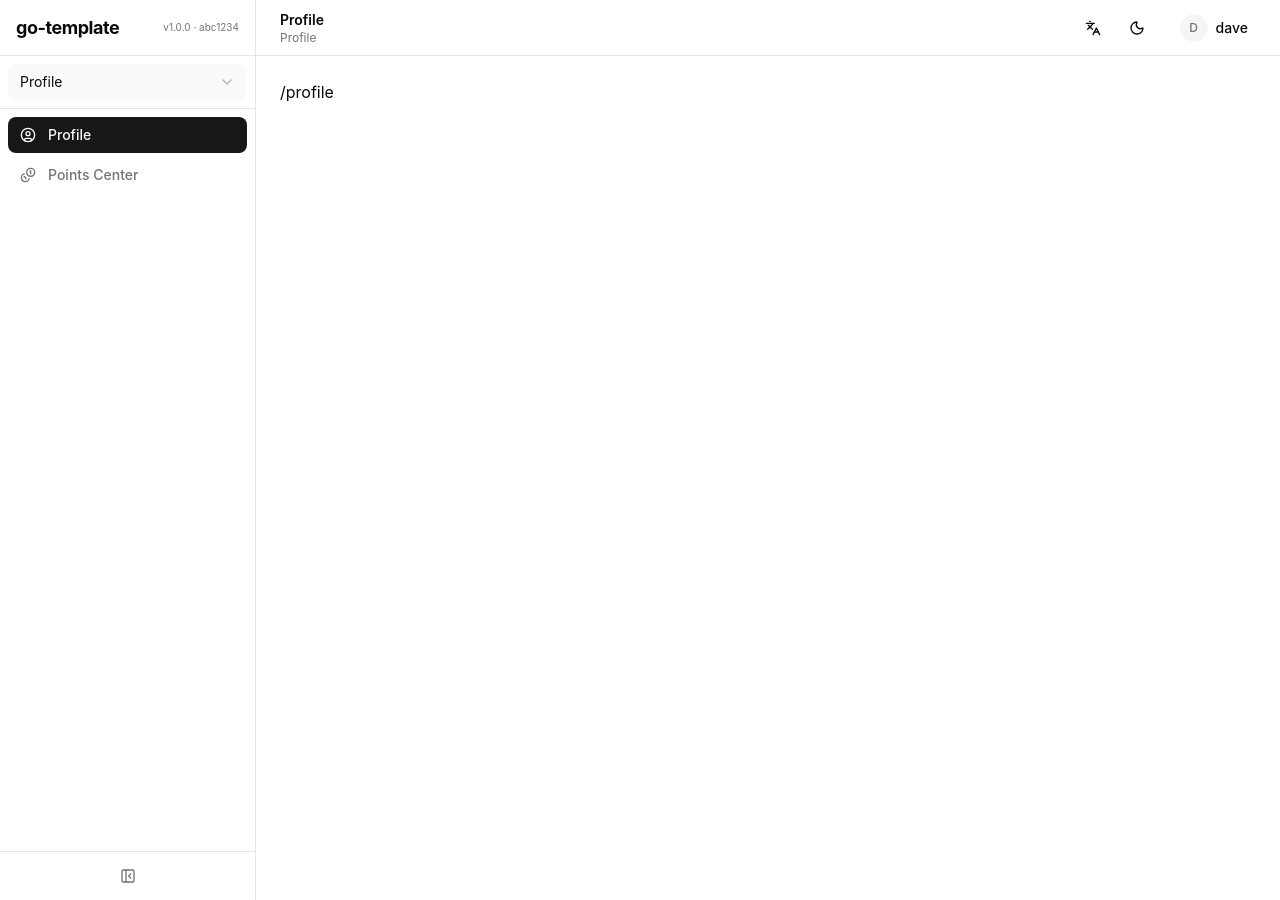
AppShell › keeps module switching available after sidebar collapse
Click the button named "collapse sidebar". click: (128, 876)
box: [8, 860, 247, 892]
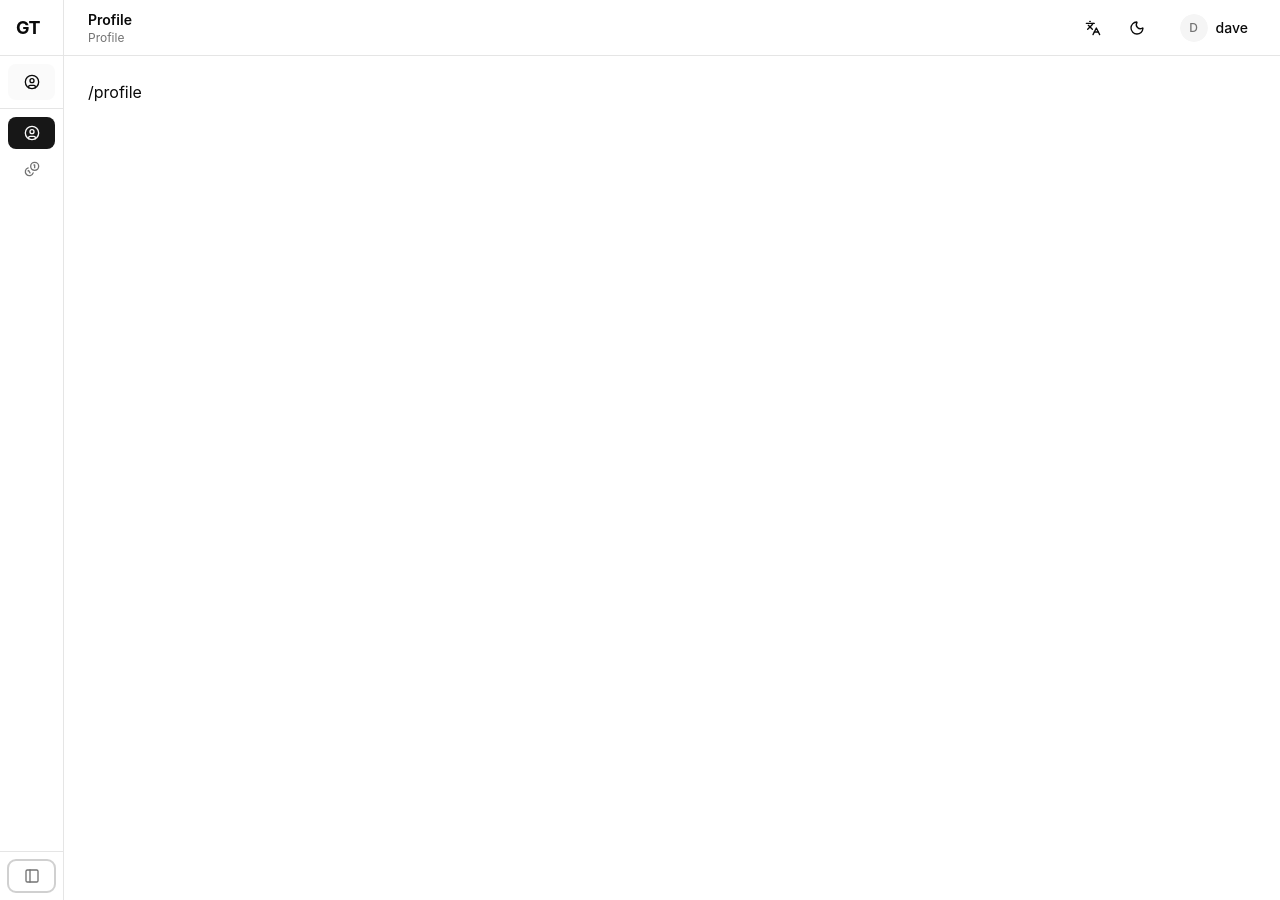
Click the button named "Subsystem". click: (32, 82)
box: [8, 64, 55, 100]
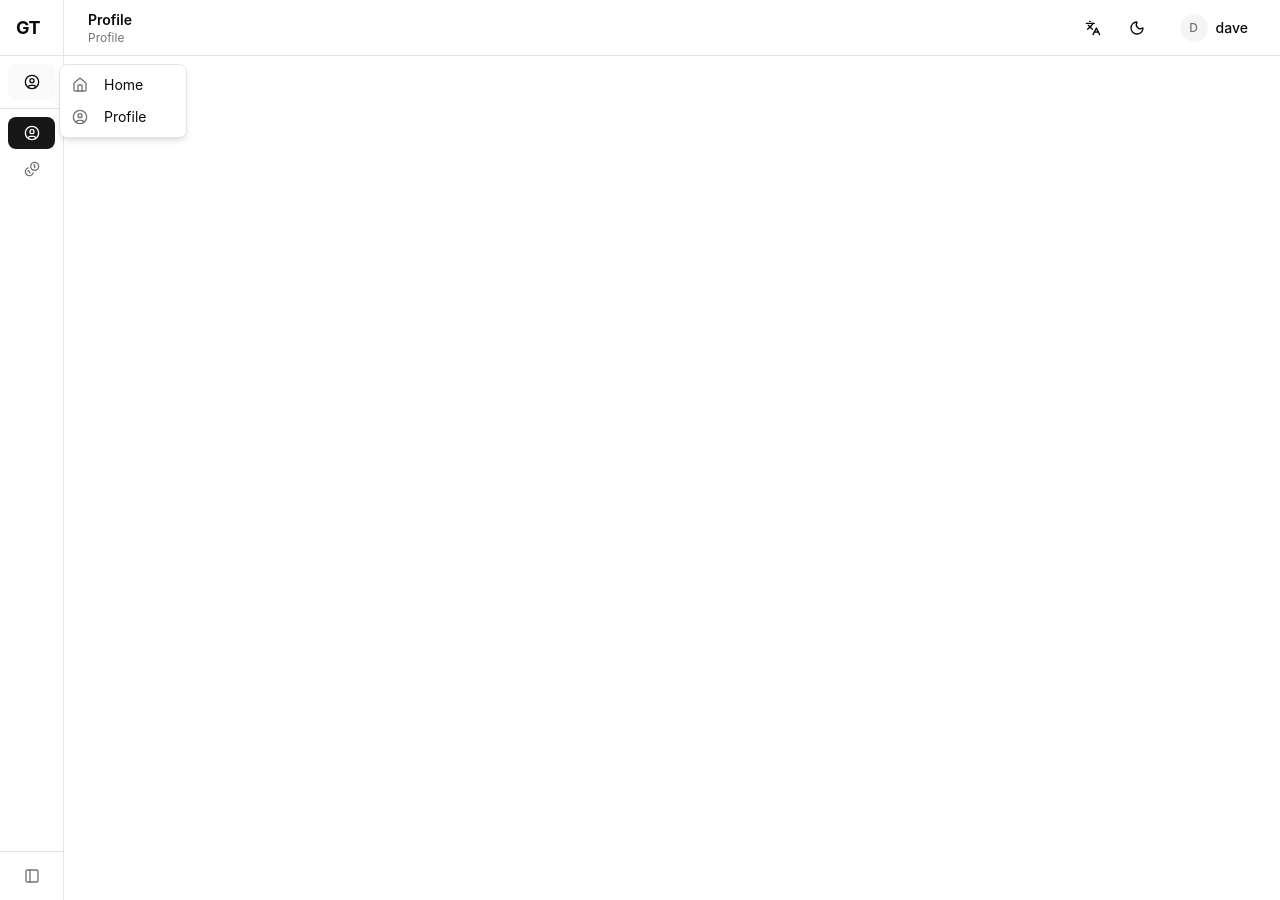
Click the menu item "Home". click: (108, 84)
box: [72, 76, 143, 93]
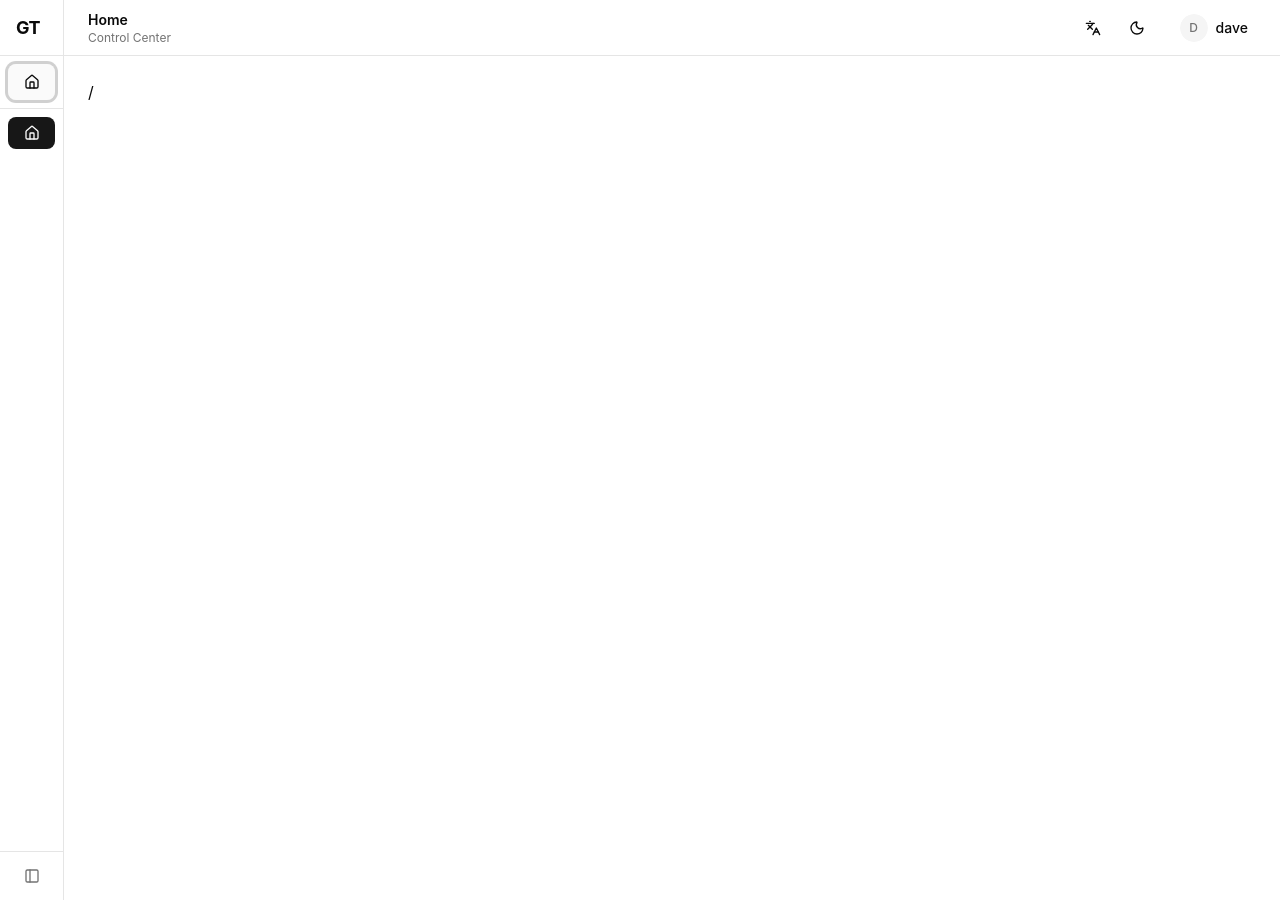
Now the text with test id "pathname" reads "/", box [88, 82, 94, 102]
